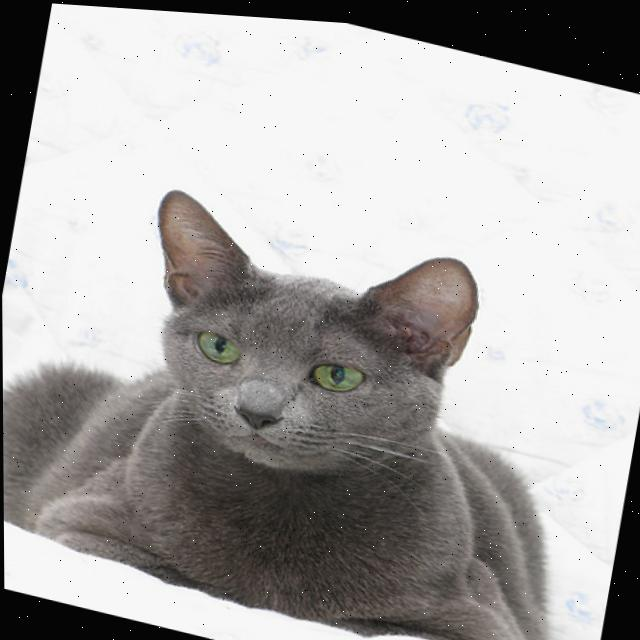Russian Blue: (1, 145, 613, 640)
